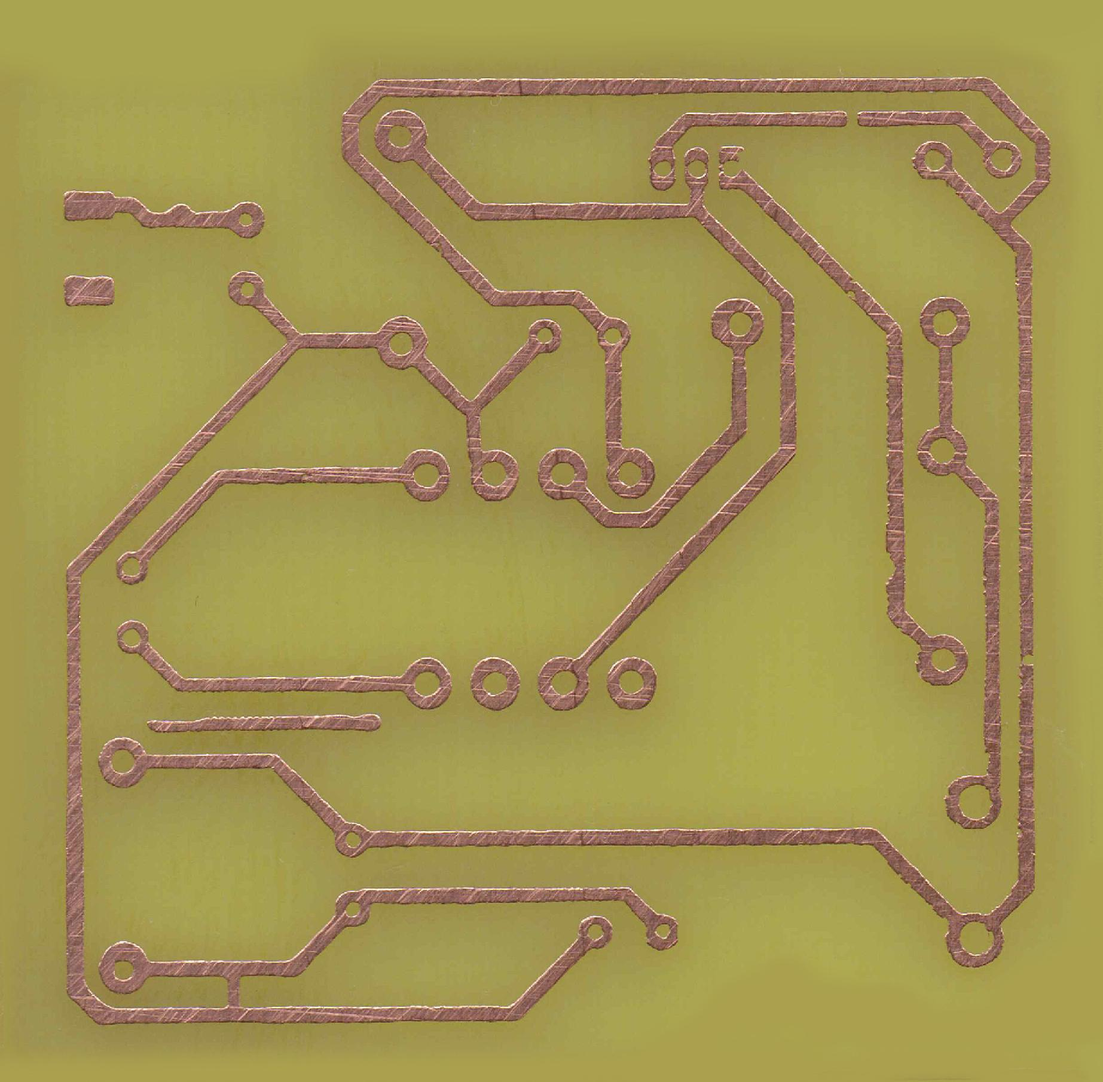missing_hole: (712, 141, 753, 192)
mouse_bite: (879, 542, 911, 591), (1019, 649, 1035, 673)
open_circuit: (834, 106, 867, 132)
short: (221, 956, 251, 1026)
spur: (166, 198, 197, 235)
spurious_copper: (140, 711, 387, 738)
